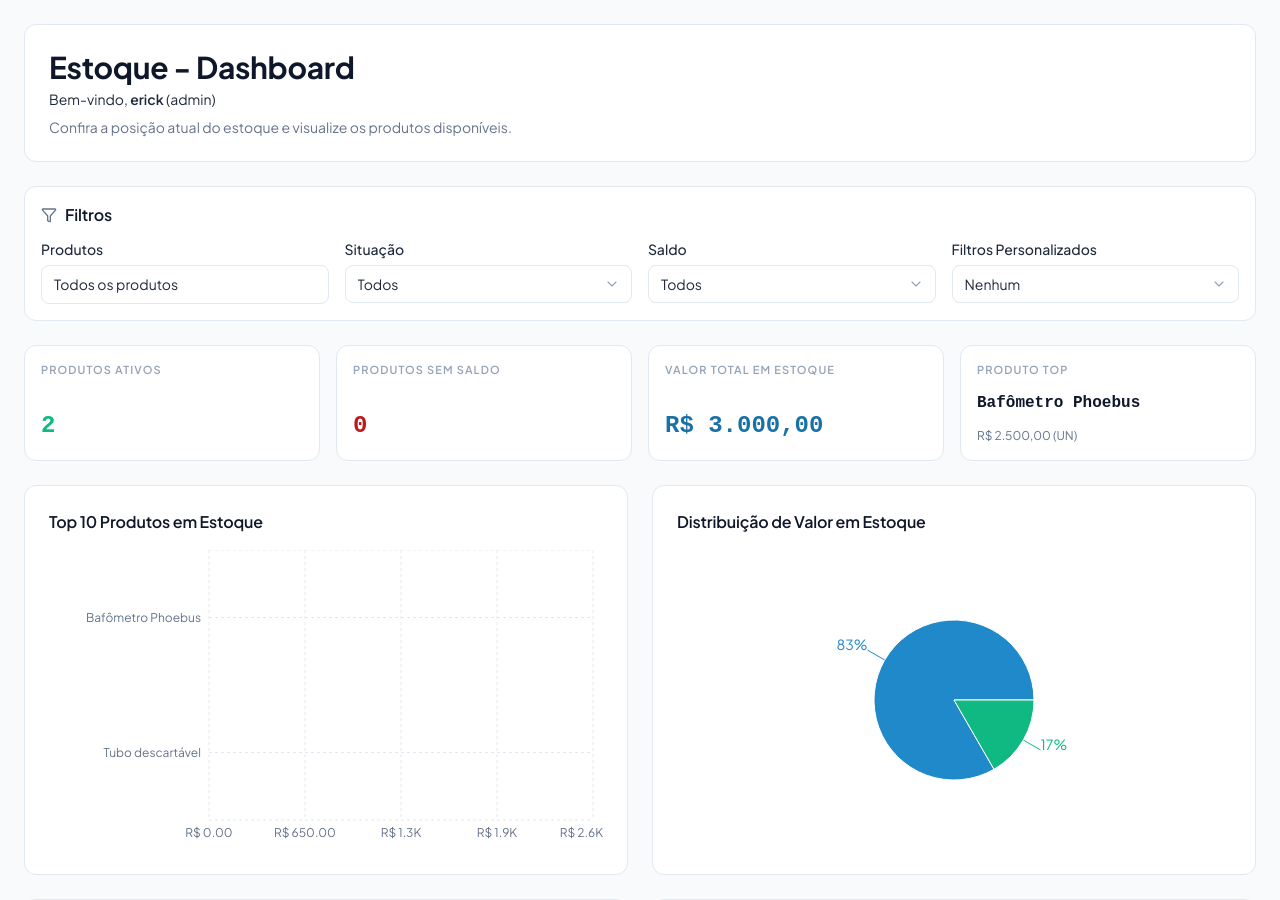
Test: MultiSelect em Estoque › sem resultado, diz que não achou
Click the button "Produtos Todos os produtos": (116, 284) [41, 265, 328, 304]
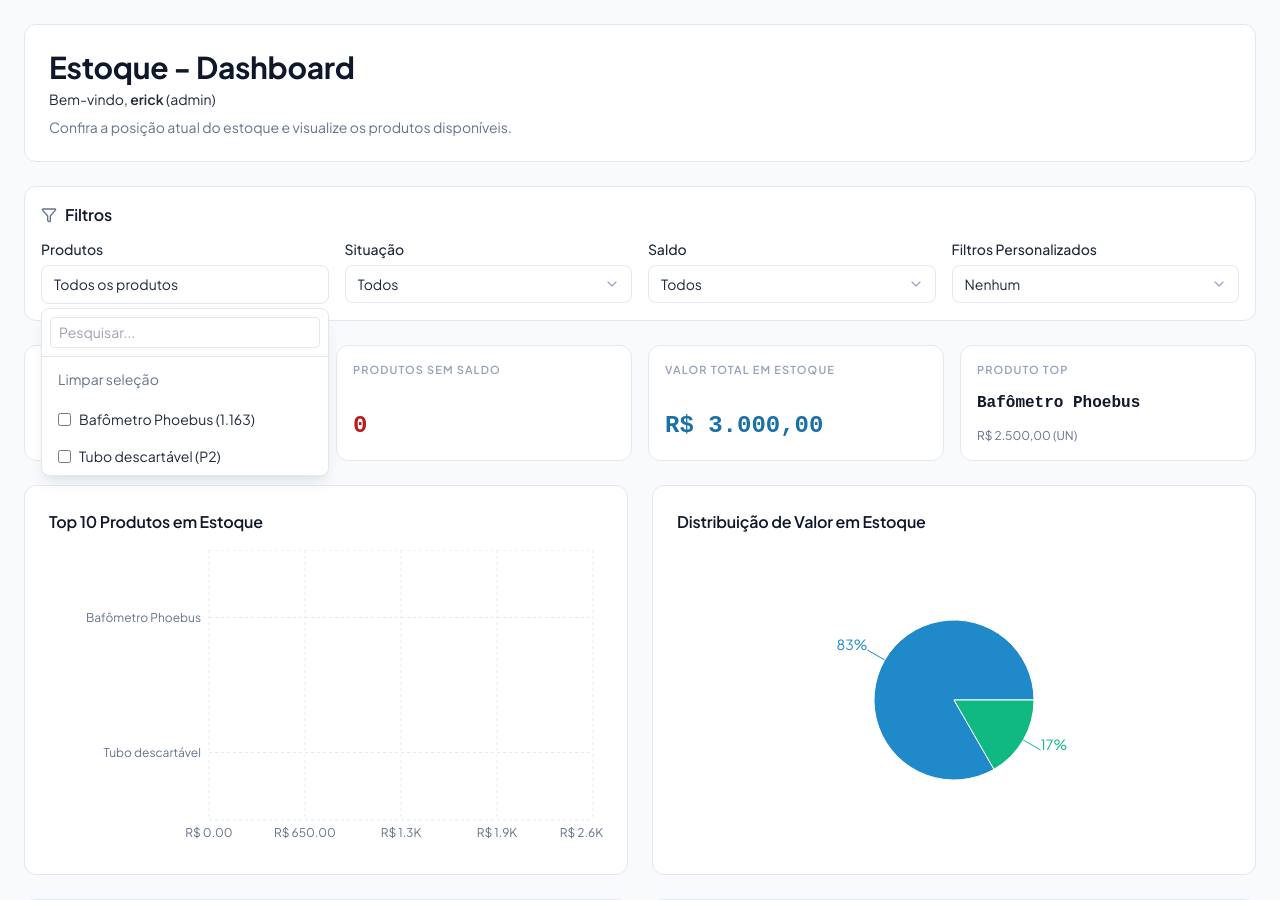
In the field with placeholder "Pesquisar...": (185, 332) [50, 317, 320, 348], type "gama"
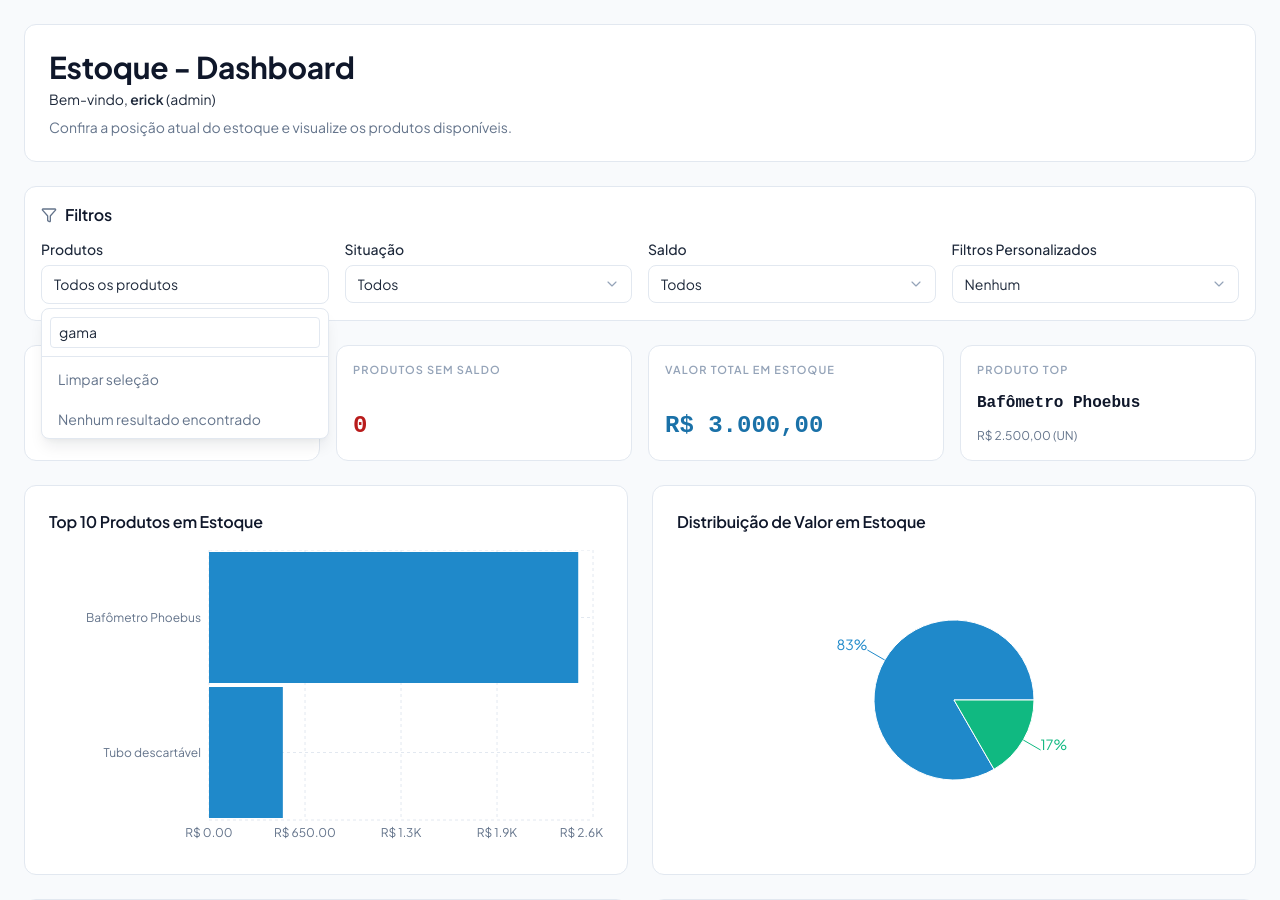
Expected: the text "Nenhum resultado encontrado" is shown, [58, 410, 261, 428]
